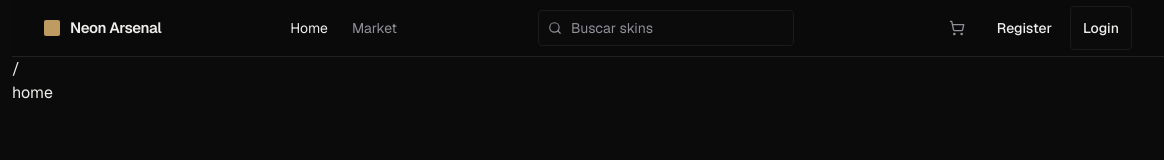
Scenario: Header › submits header search to /products?q=
This screenshot has width=1164, height=160.
Type "  talon " into the search field named "Buscar no Market". click: (666, 28)
box: left=538, top=10, right=794, bottom=46
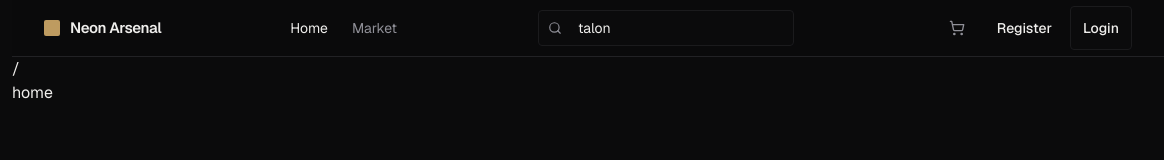
Submit the form, box left=538, top=10, right=794, bottom=46
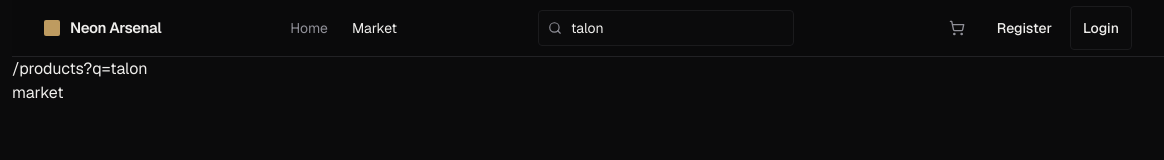
Now the text with test id "location" reads "/products?q=talon", box left=12, top=58, right=148, bottom=79
